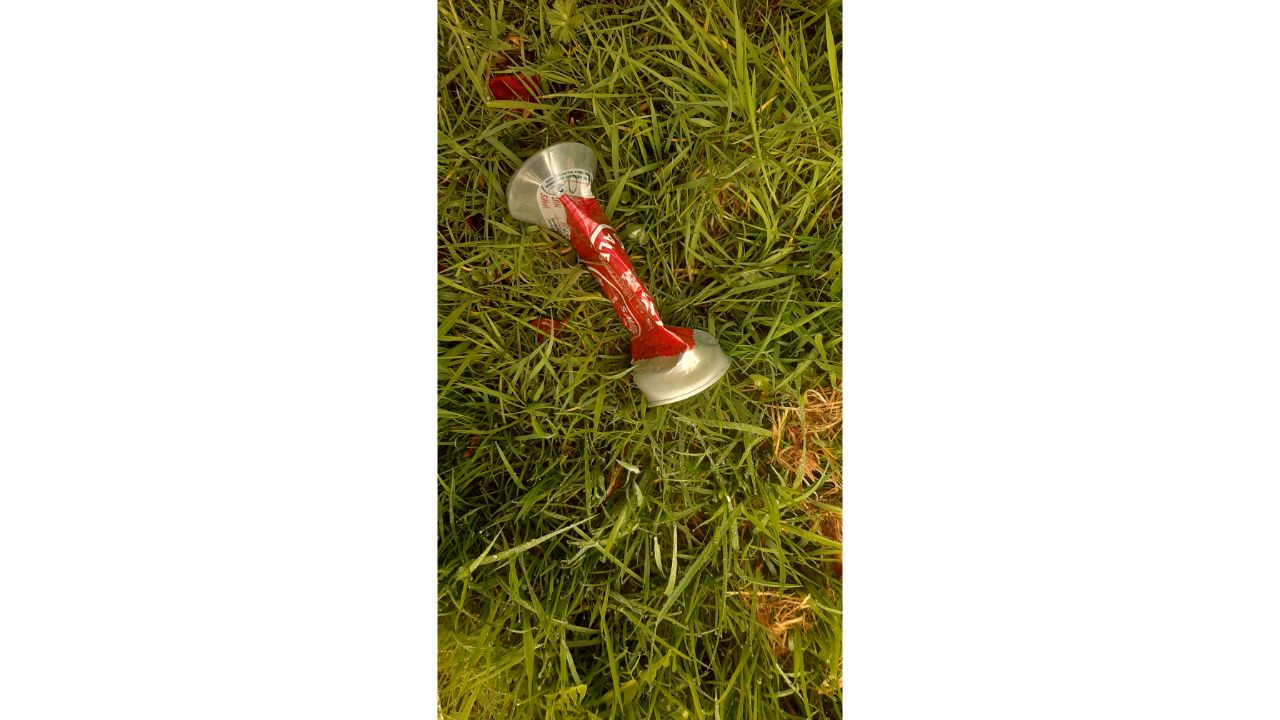Can: (501, 135, 743, 417)
